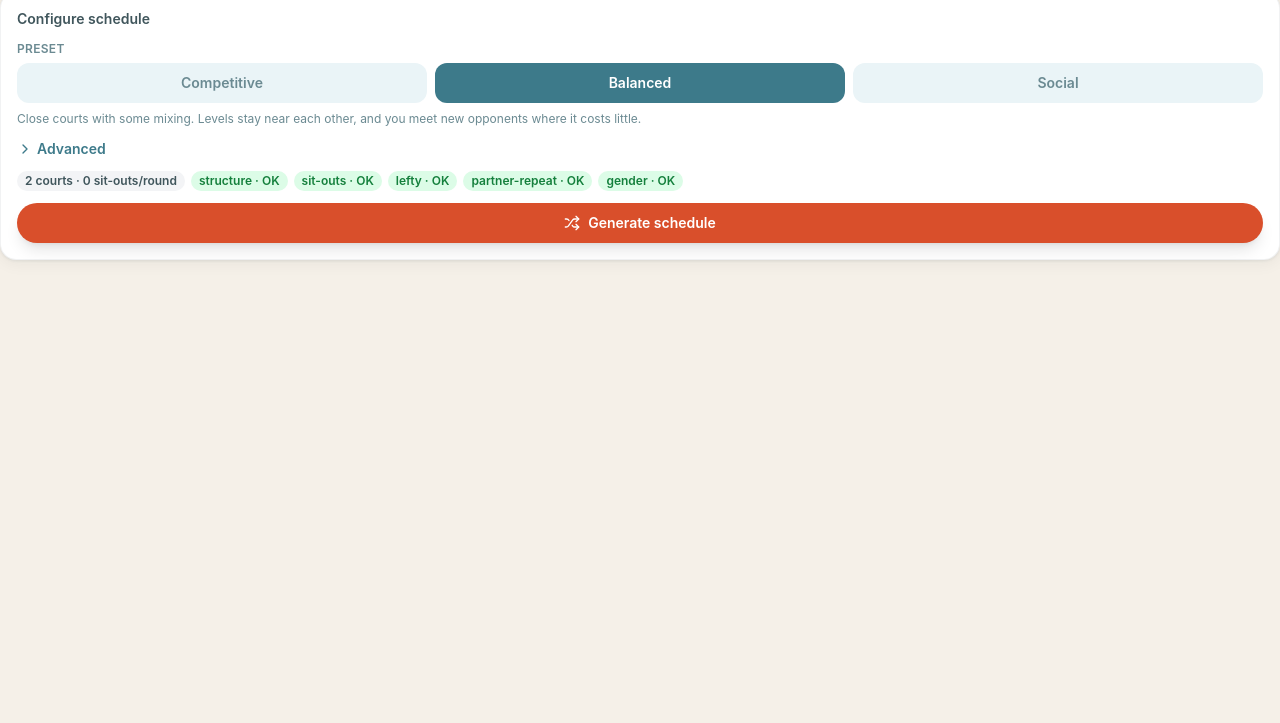
Test case: MatchmakingContainer — tap a player, apply, undo (D-036) › opens swap options for a tapped player, applies one, and undoes it
The image size is (1280, 723).
What coordinates should you click on to do the following:
click the button "Generate schedule"
I would click on:
 (640, 223)
Its box is 17,203 -> 1263,243.
(page scrolled)
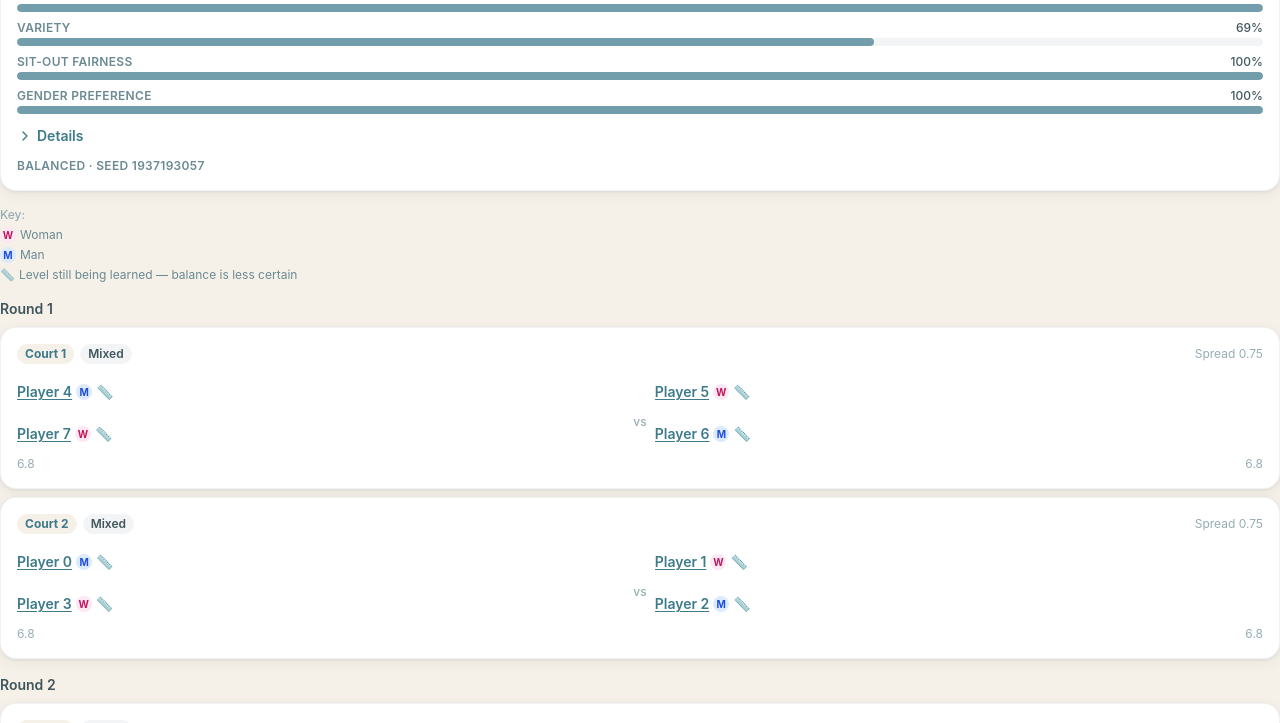
Check: the button "undo last swap" is not shown
What coordinates should you click on to do the following:
click the button with aria-label "swap options for "
I would click on:
 (45, 392)
Its box is 9,370 -> 80,414.
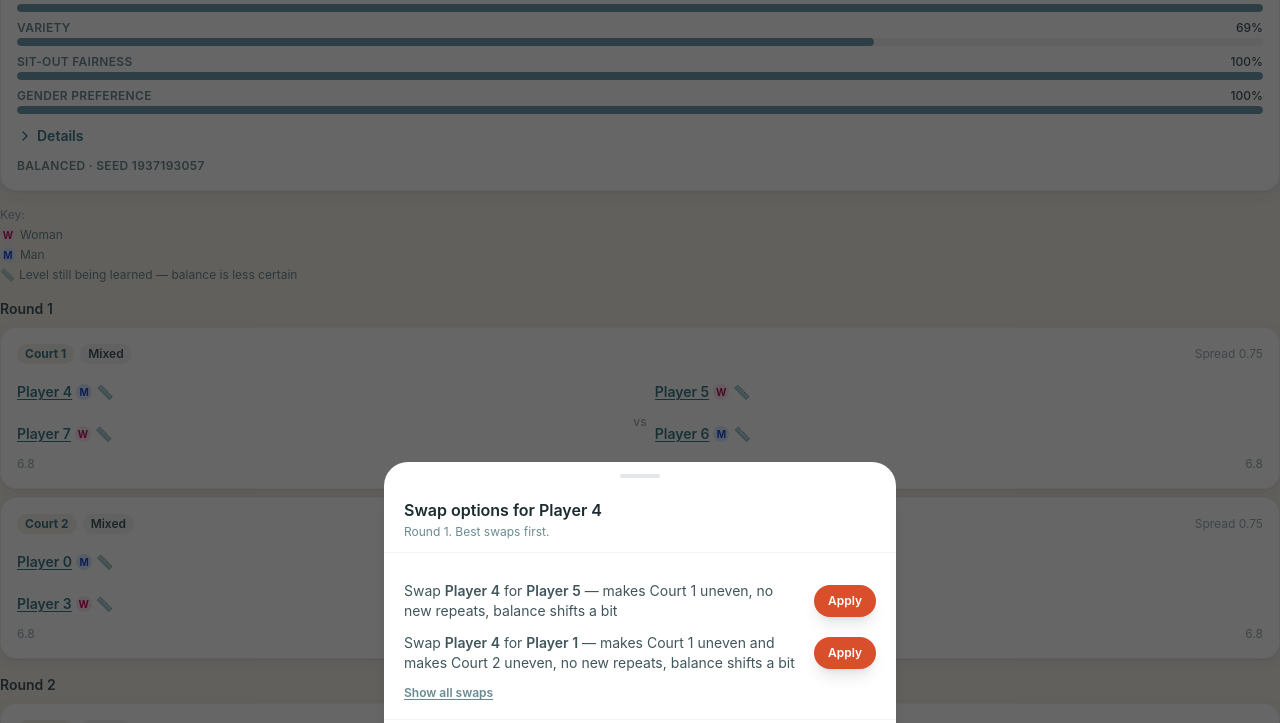
Check: the heading "Swap options for Player 4" is shown, box 404,498 -> 602,522
What coordinates should you click on to do the following:
click the 1st button "Apply"
I would click on:
 (845, 601)
Its box is 814,585 -> 876,617.
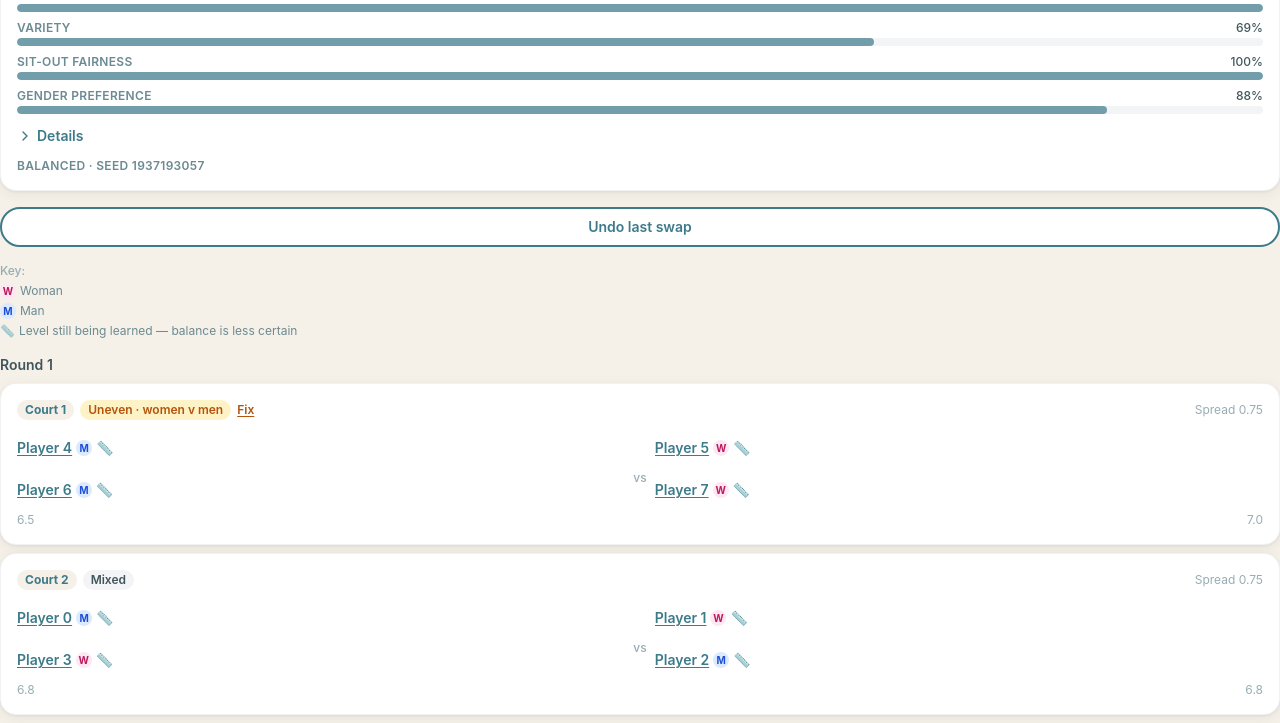
Check: the button "Undo last swap" is shown
Check: the heading "Swap options for " is gone
What coordinates should you click on to do the following:
click the button "Undo last swap"
I would click on:
 (640, 227)
Its box is 0,207 -> 1279,247.
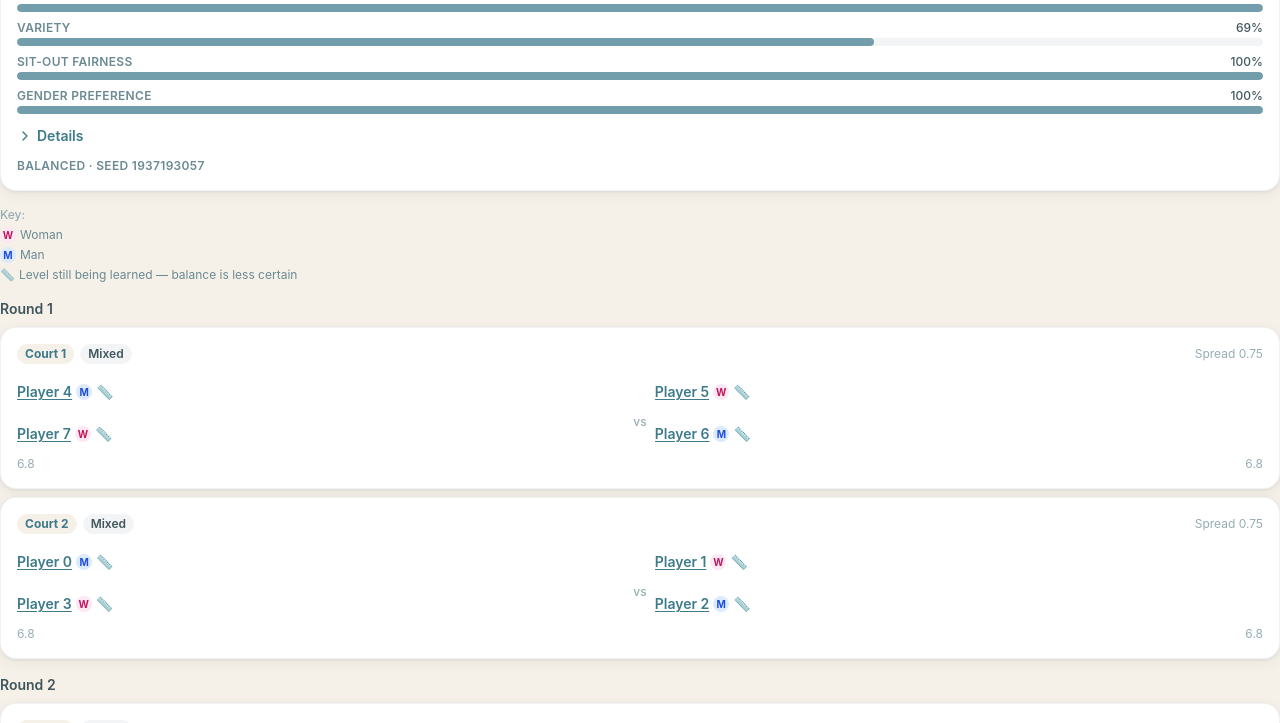
Check: the button "Undo last swap" is gone
